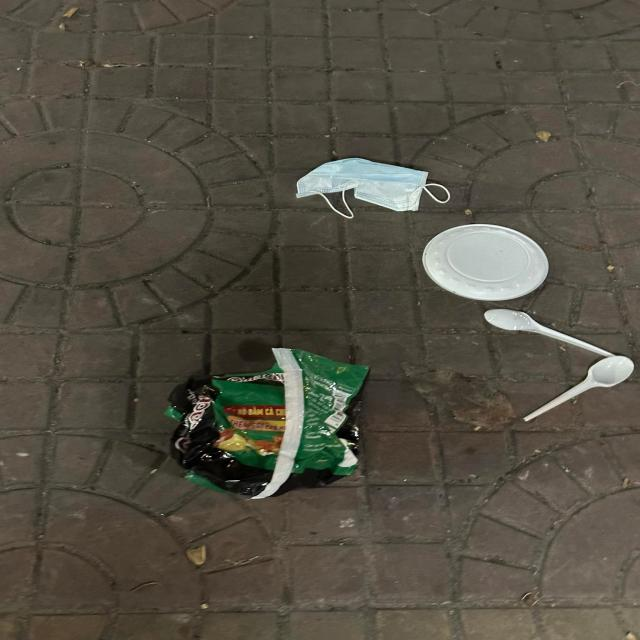mask: (298, 158, 451, 217)
plastic holder: (422, 224, 551, 302)
plastic utensil: (524, 356, 634, 422), (485, 308, 620, 361)
snack package: (166, 348, 370, 496)
